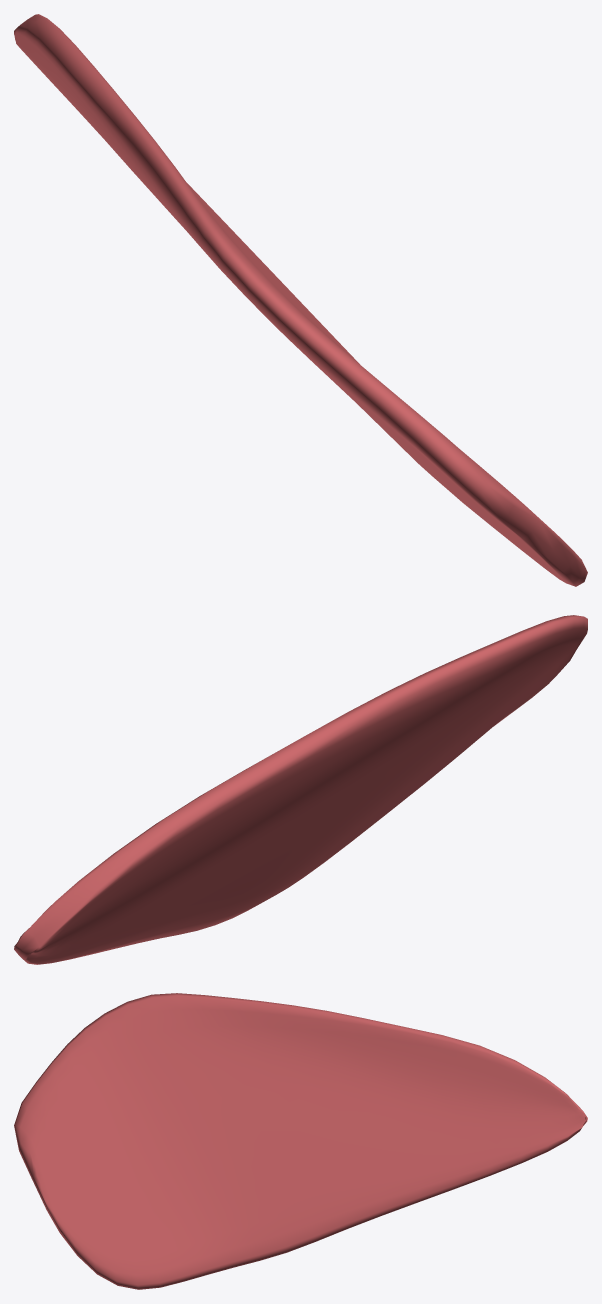
3 views of the same model, one above another, from view 1: azimuth 30°, elevation 25°; view 2: azimuth 150°, elevation 25°; view 3: azimuth 270°, elevation 25° (orthographic). The views are drawn at different scales.
Parts seen in each view (by area): view 1: 左侧缝匠肌腱下囊; view 2: 左侧缝匠肌腱下囊; view 3: 左侧缝匠肌腱下囊.
Part boxes in pixels (bbox=[...]): 左侧缝匠肌腱下囊: bbox=[14, 14, 587, 586]; 左侧缝匠肌腱下囊: bbox=[14, 615, 587, 964]; 左侧缝匠肌腱下囊: bbox=[14, 993, 587, 1289].
Bounding box in the file's own units: 0.0202 × 0.0229 × 0.056.
